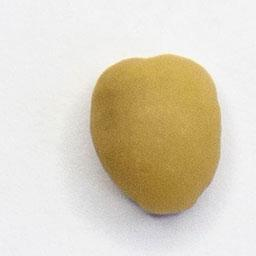defect: (88, 50, 225, 221)
